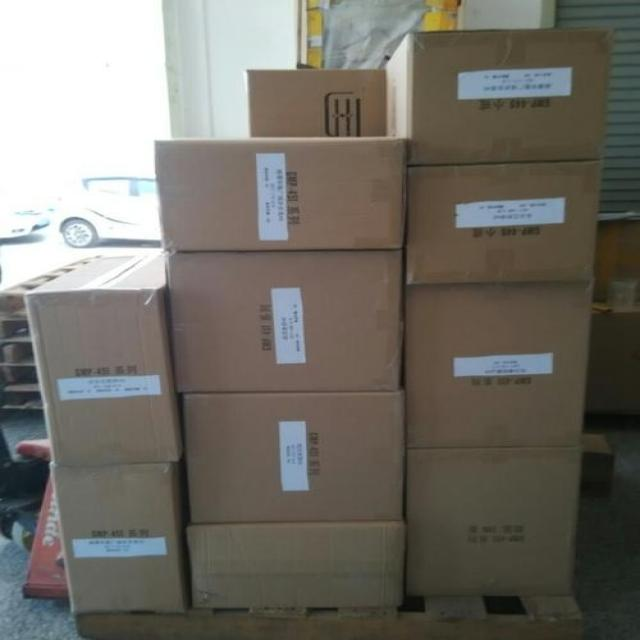box: (163, 249, 401, 392), (23, 254, 180, 463), (385, 26, 614, 168), (404, 282, 591, 447), (179, 390, 404, 523), (156, 136, 407, 251), (404, 447, 579, 596), (407, 158, 602, 283), (50, 463, 188, 616), (187, 523, 406, 610), (247, 68, 387, 136)
